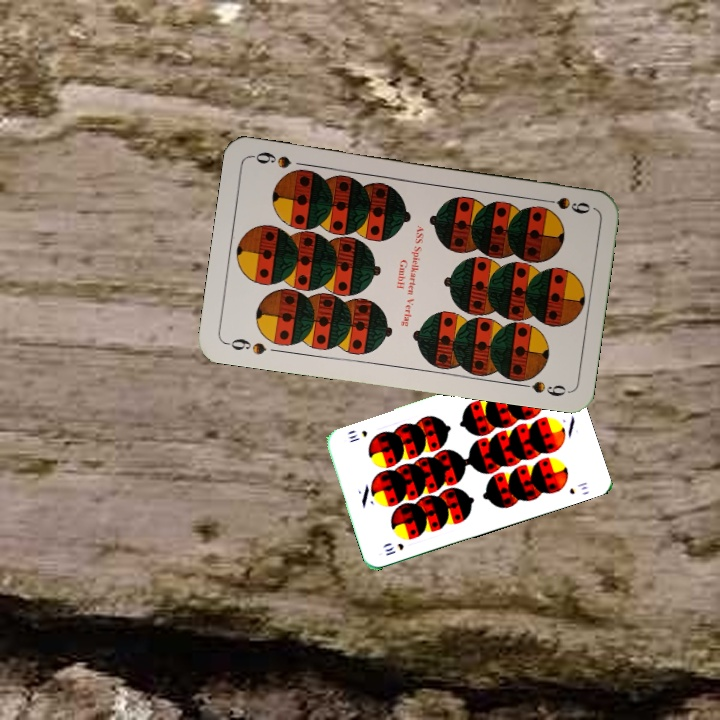S10: (381, 539, 406, 558)
S9: (535, 193, 592, 217), (222, 334, 269, 358)
